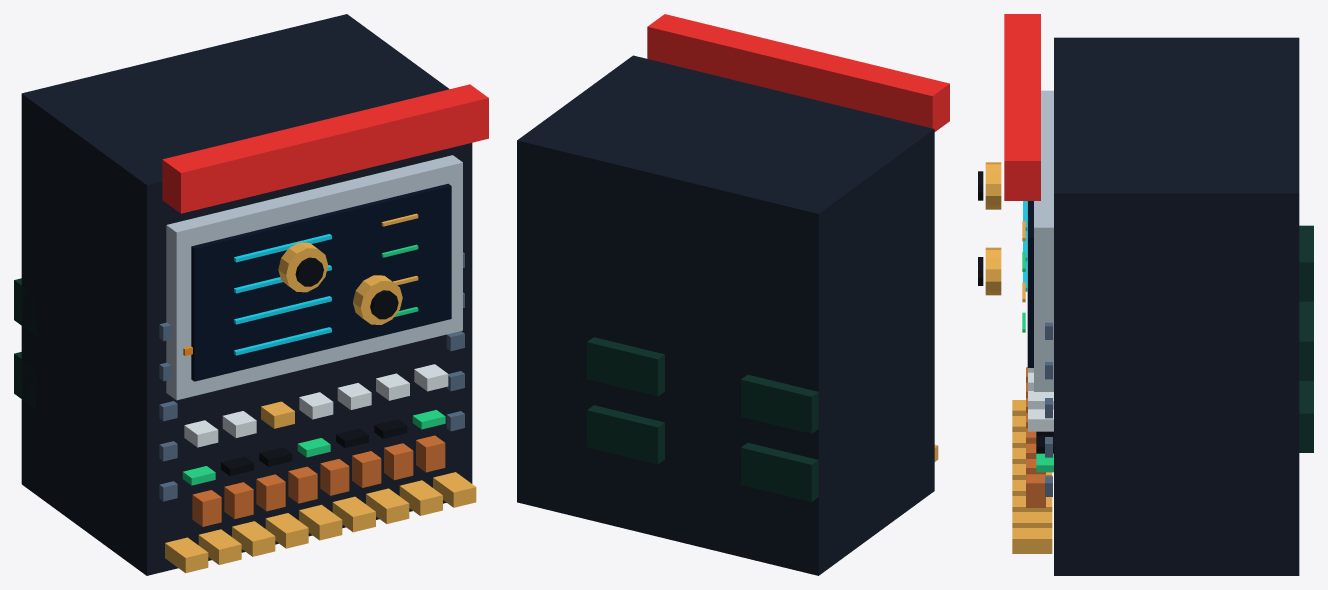
File: 93_L91_EStopStation.fbx
3 views of the same model, side by side, from view 1: azimuth 30°, elevation 25°; view 2: azimuth 150°, elevation 25°; view 3: azimuth 270°, elevation 25° (orthographic). The views are drawn at different scales.
Parts seen in each view (by area): view 1: L91_EStopStation, L91_EStopStation_Part_0013, L91_EStopStation_Part_0015, L91_EStopStation_Part_0016, L91_EStopStation_Part_0014; view 2: L91_EStopStation; view 3: L91_EStopStation, L91_EStopStation_Part_0015, L91_EStopStation_Part_0013.
Part boxes in pixels (x1,y1,x2,y2): L91_EStopStation: (14, 14, 488, 575); L91_EStopStation_Part_0013: (278, 242, 328, 292); L91_EStopStation_Part_0015: (353, 275, 402, 324); L91_EStopStation_Part_0016: (370, 290, 398, 319); L91_EStopStation_Part_0014: (295, 257, 323, 286); L91_EStopStation: (517, 14, 949, 575); L91_EStopStation: (1004, 14, 1313, 575); L91_EStopStation_Part_0015: (985, 247, 1001, 295); L91_EStopStation_Part_0013: (985, 162, 1001, 209).
Bounding box in the file's own units: 100 × 124 × 91.63.
